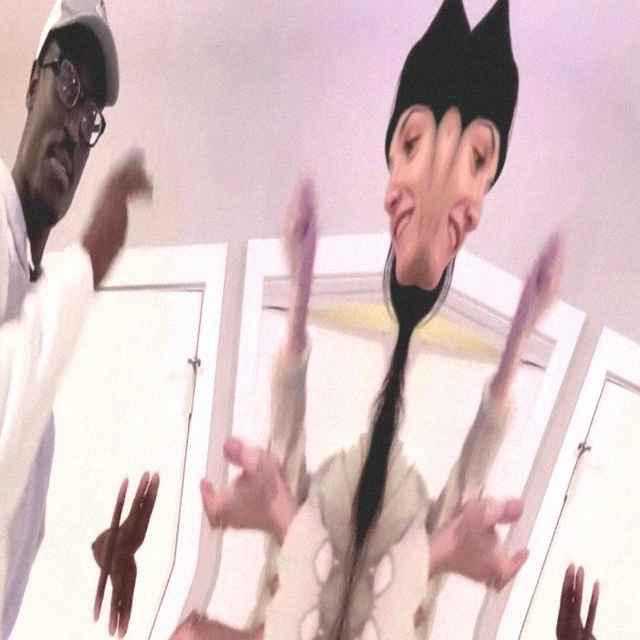Rock: (265, 166, 337, 287)
Scissors: (76, 140, 170, 297)
